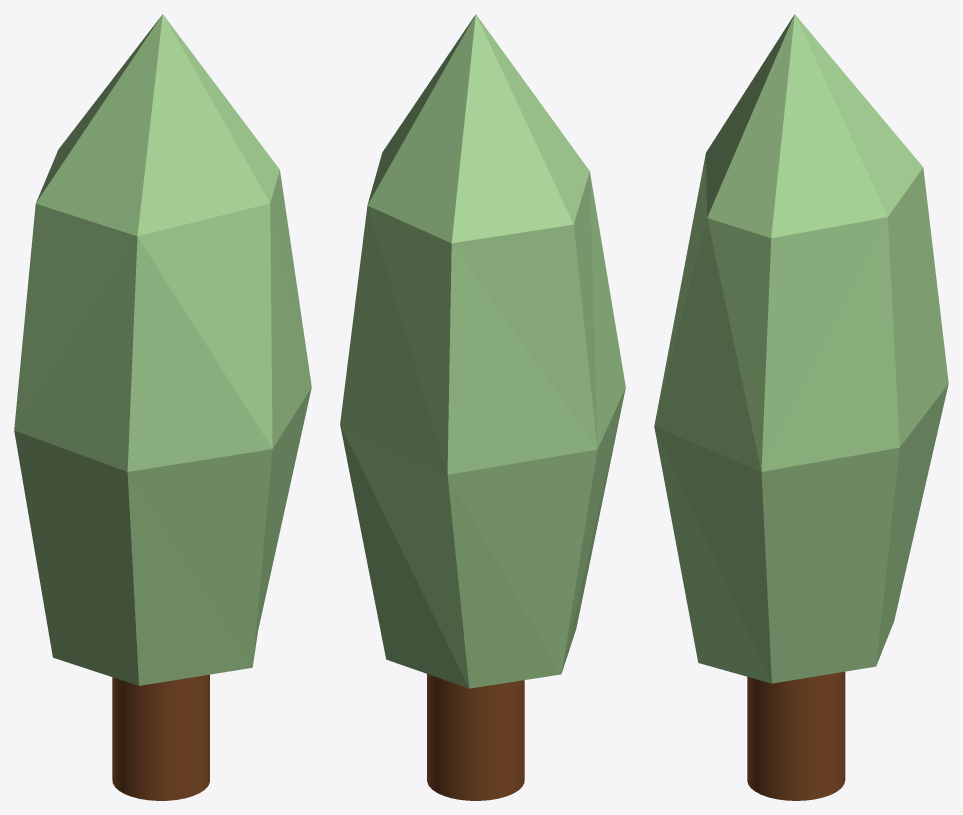
File: shu2.obj
The picture shows the model from 3 angles, left to right: view 1: azimuth 30°, elevation 25°; view 2: azimuth 150°, elevation 25°; view 3: azimuth 270°, elevation 25°; orthographic projection.
Size of the model in its own units: 0.6312 by 1.73 by 0.6015.
